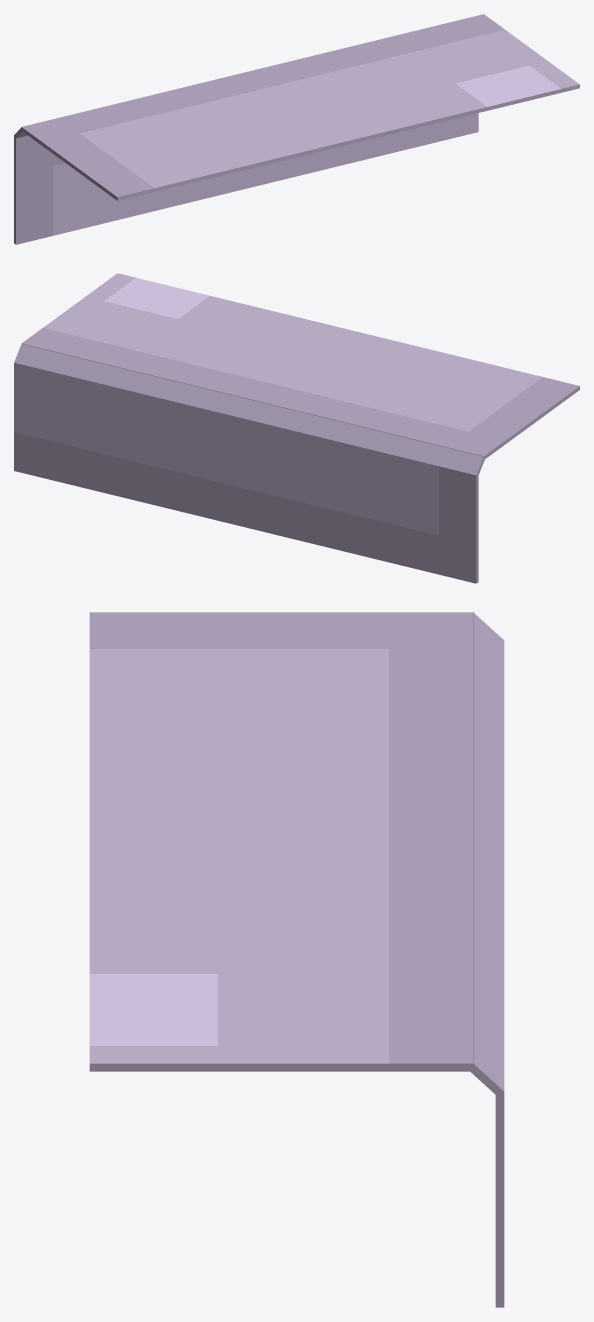
Rendered from IAShopMat.gltf.
3 renders of one model, top to bottom at view 1: azimuth 30°, elevation 25°; view 2: azimuth 150°, elevation 25°; view 3: azimuth 270°, elevation 25°, orthographic. The views are drawn at different scales.
Visible parts, largest first — view 1: ab51a7c7-b3d4-694b-7b5e-c3c6bed081a5, cb8ada56-fab9-0062-279e-2b6b79d39a4d; view 2: cb8ada56-fab9-0062-279e-2b6b79d39a4d, ab51a7c7-b3d4-694b-7b5e-c3c6bed081a5, 1014b63e-7035-e214-8832-ce6e7809c3c8; view 3: ab51a7c7-b3d4-694b-7b5e-c3c6bed081a5, 1014b63e-7035-e214-8832-ce6e7809c3c8, cb8ada56-fab9-0062-279e-2b6b79d39a4d.
Boxes of the visible parts, box(x1,y1,x2,y2) form: ab51a7c7-b3d4-694b-7b5e-c3c6bed081a5: box(21, 14, 579, 200); cb8ada56-fab9-0062-279e-2b6b79d39a4d: box(14, 113, 478, 244); cb8ada56-fab9-0062-279e-2b6b79d39a4d: box(14, 362, 478, 583); ab51a7c7-b3d4-694b-7b5e-c3c6bed081a5: box(21, 273, 579, 458); 1014b63e-7035-e214-8832-ce6e7809c3c8: box(14, 343, 485, 474); ab51a7c7-b3d4-694b-7b5e-c3c6bed081a5: box(89, 612, 474, 1071); 1014b63e-7035-e214-8832-ce6e7809c3c8: box(468, 612, 503, 1094); cb8ada56-fab9-0062-279e-2b6b79d39a4d: box(495, 639, 504, 1307).
Bounding box in the file's own units: 12.5 × 3.15 × 4.85.
Materials: 1 (1 with a texture image).
